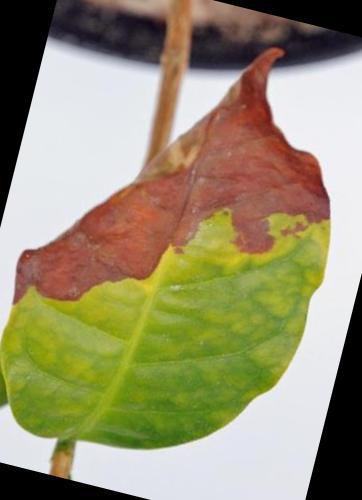Potasio: (0, 49, 329, 478)
